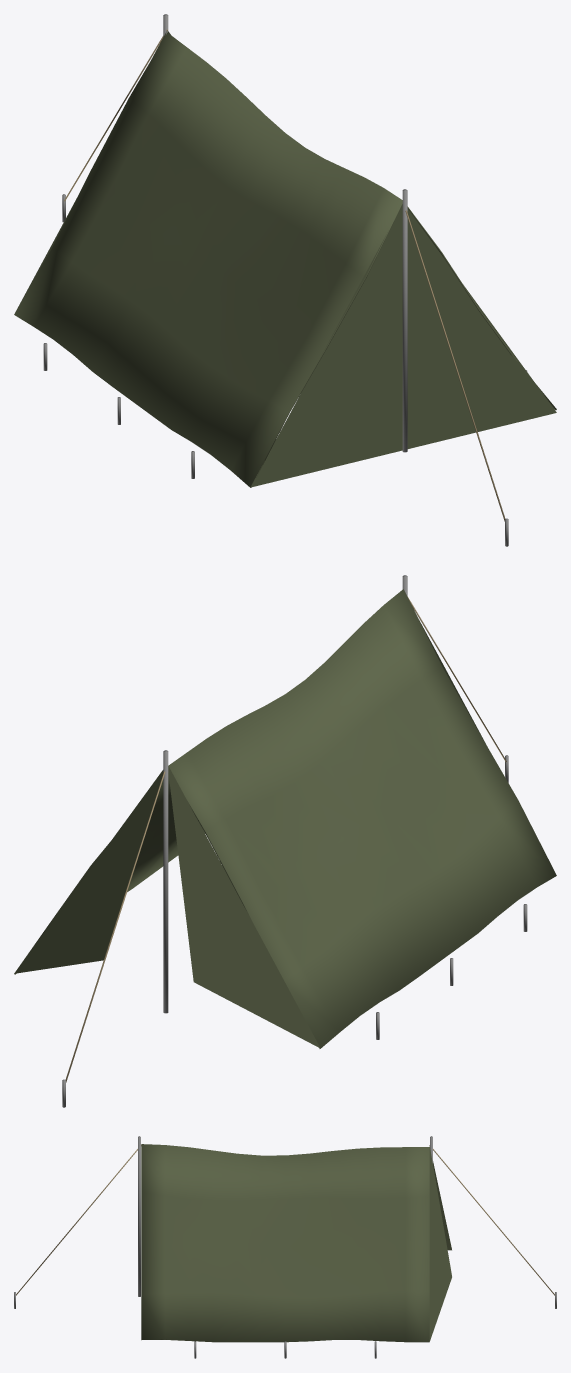
Rendered from tent.glb.
3 renders of one model, top to bottom at view 1: azimuth 30°, elevation 25°; view 2: azimuth 150°, elevation 25°; view 3: azimuth 270°, elevation 25°, orthographic. The views are drawn at different scales.
Parts seen in each view (by area): view 1: fly, back, pole.003, guy.003; view 2: fly, flap.001, flap, pole.004, guy.004; view 3: fly, flap, pole.003, guy.003, guy.004, flap.001.
Part boxes in pixels (<box>): fly: <box>14,32,556,487</box>; back: <box>250,205,556,487</box>; pole.003: <box>402,189,407,452</box>; guy.003: <box>405,210,505,521</box>; fly: <box>14,589,556,1048</box>; flap.001: <box>168,766,320,1048</box>; flap: <box>14,770,163,973</box>; pole.004: <box>163,750,168,1013</box>; guy.004: <box>65,771,165,1082</box>; fly: <box>141,1144,429,1342</box>; flap: <box>429,1146,451,1341</box>; pole.003: <box>138,1136,140,1296</box>; guy.003: <box>16,1145,141,1295</box>; guy.004: <box>429,1145,554,1295</box>; flap.001: <box>433,1161,451,1250</box>.
Bounding box in the file's own units: 2.62 × 2.1 × 6.02.
